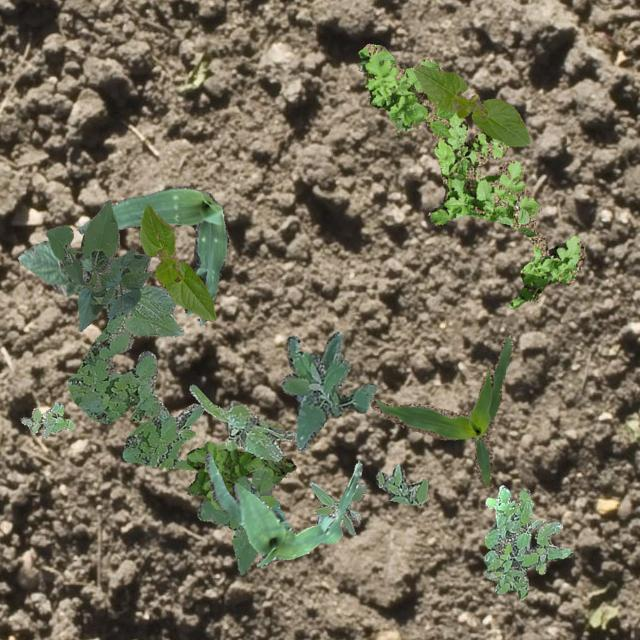crop: (369, 334, 512, 486), (76, 186, 228, 322), (204, 452, 360, 566), (46, 198, 152, 330), (412, 64, 528, 146), (138, 202, 214, 320), (17, 240, 92, 296), (124, 284, 182, 336)
weed: (356, 42, 584, 308), (66, 312, 204, 469), (280, 330, 376, 450), (482, 484, 572, 598), (196, 468, 284, 574), (186, 422, 294, 508), (188, 384, 292, 459), (308, 480, 366, 534), (374, 464, 428, 504), (19, 402, 72, 436)
